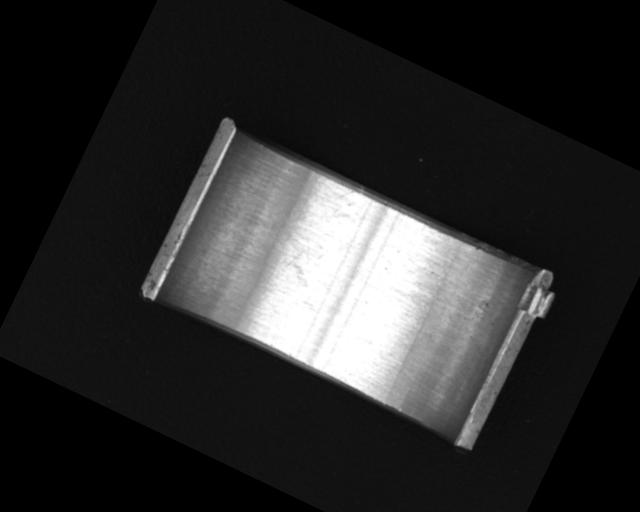blot: (271, 232, 329, 292)
